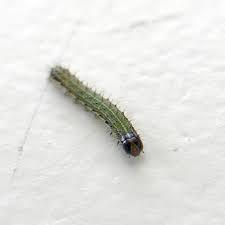fallarmy_worm: (44, 66, 153, 170)
